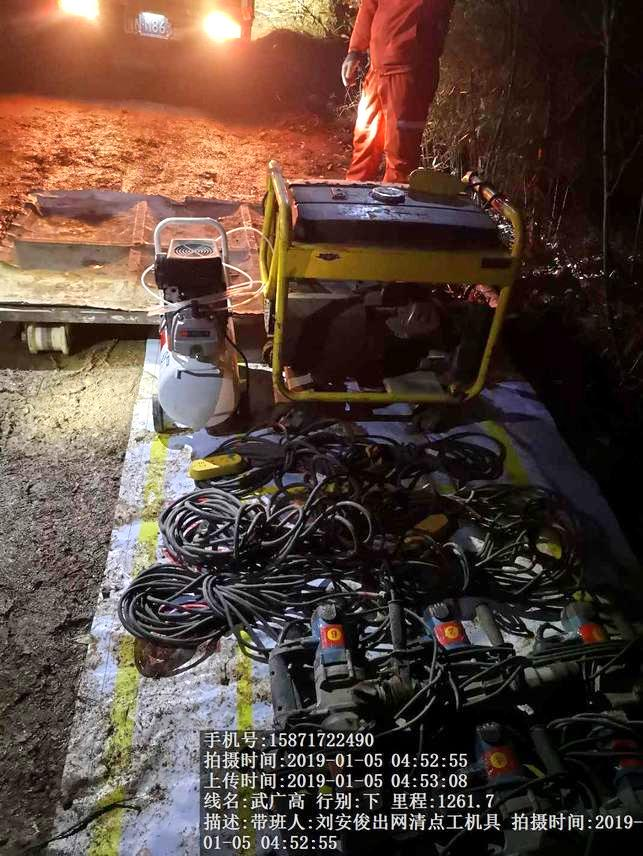DJ: (258, 168, 531, 416)
